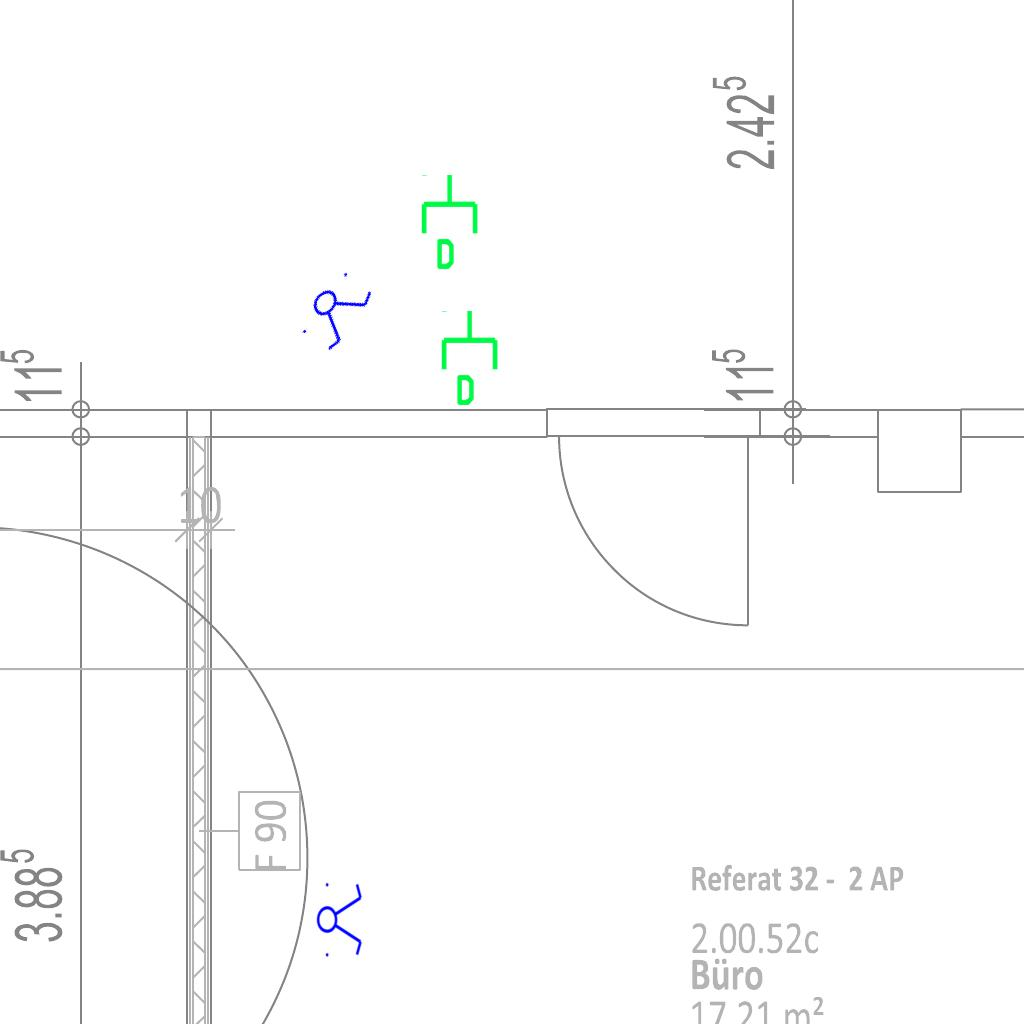Datenanschluss_einfach: (417, 172, 486, 272), (437, 308, 506, 408)
Serienschalter: (291, 261, 381, 359), (316, 877, 364, 961)
